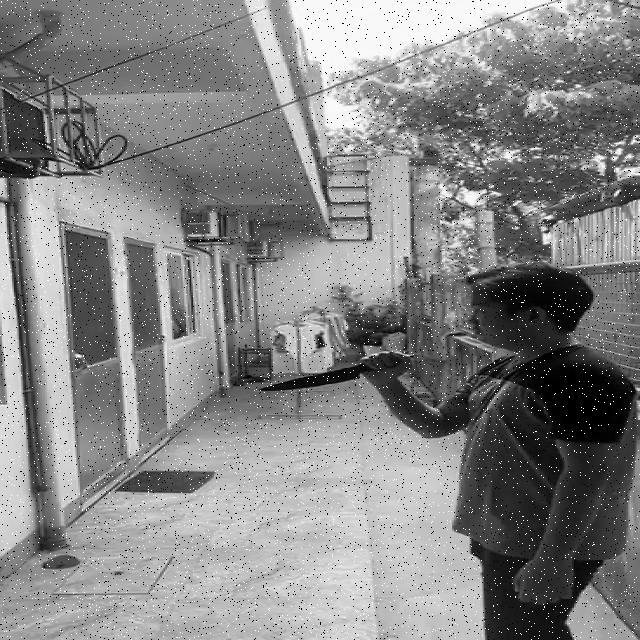knife: (261, 352, 416, 393)
non-violence: (258, 262, 630, 640)
